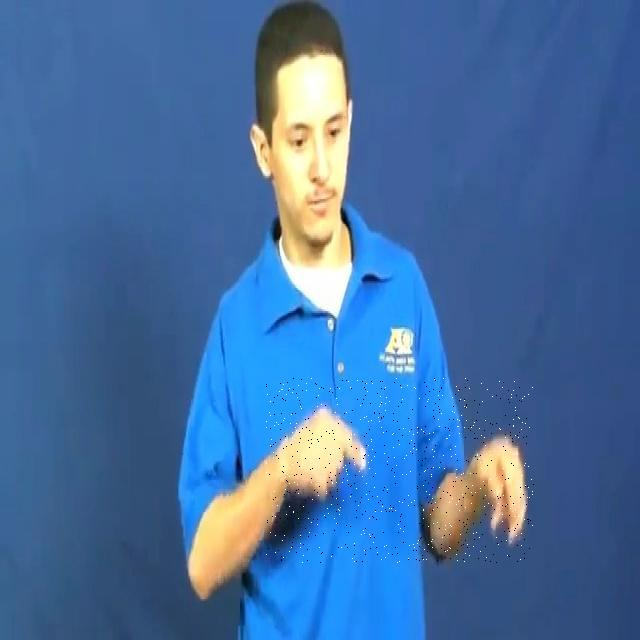order: (266, 378, 534, 563)
